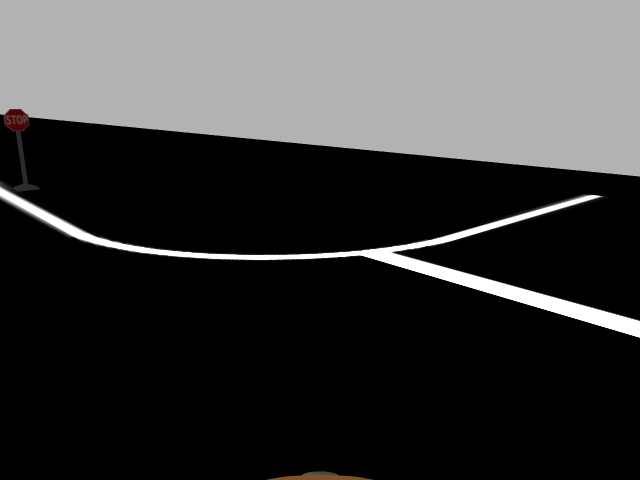stop: (3, 107, 30, 134)
